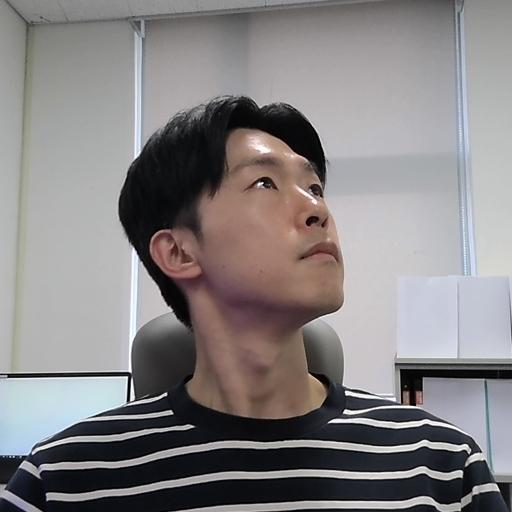no_glasses: (111, 92, 352, 345)
